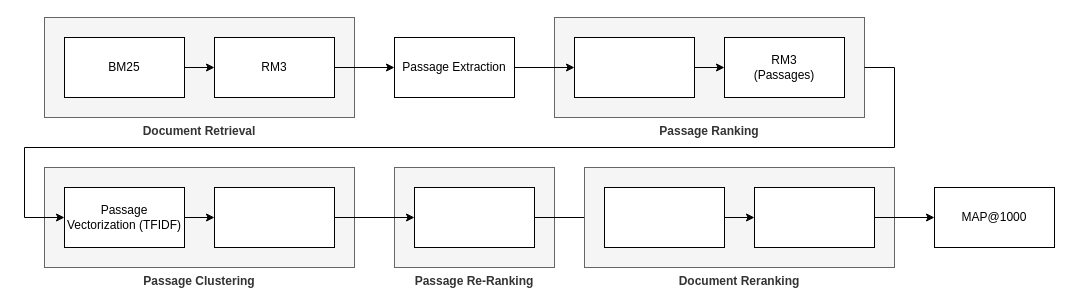
This 1072x306 diagram has some shape labels left out. The centre of each missing label's shape, as x and y in pixels:
"BM25 (Passages)" goes at (634,67).
"Cosine Similarity" goes at (274,217).
"max cluster score per passage" goes at (474,217).
"RRF" goes at (814,217).
"sum of passage scores" goes at (664,217).
